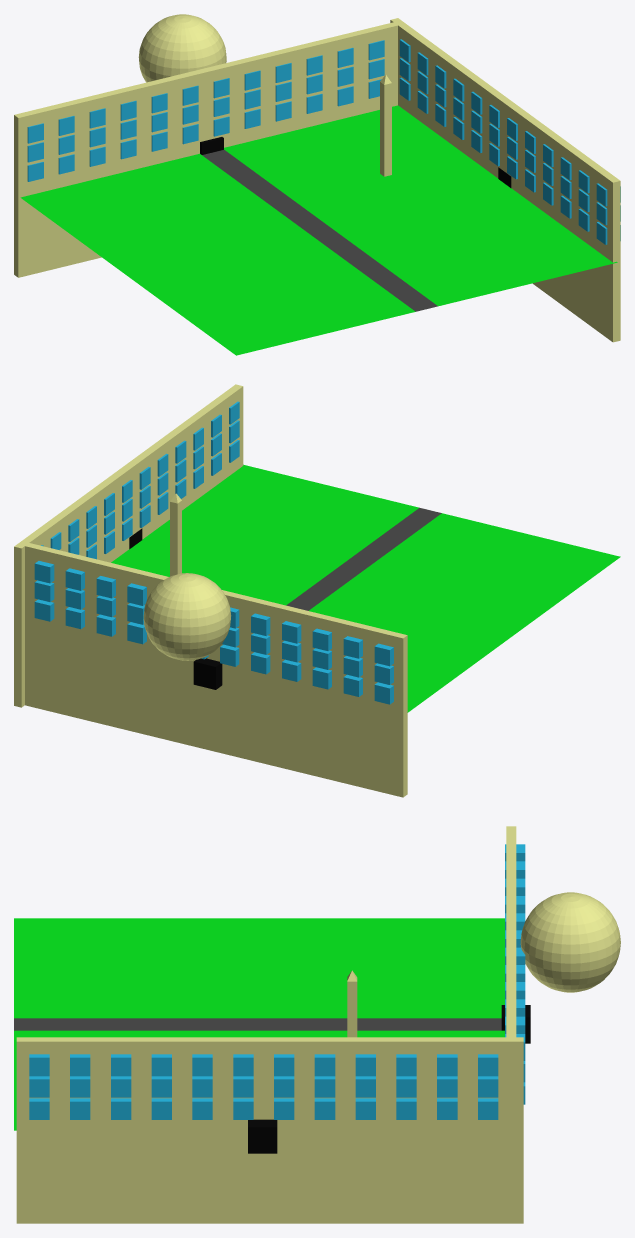
File: World.fbx
The picture shows the model from 3 angles, top to bottom: view 1: azimuth 30°, elevation 25°; view 2: azimuth 150°, elevation 25°; view 3: azimuth 270°, elevation 25°; orthographic projection. The views are drawn at different scales.
Visible parts, largest first — view 1: Plane, Cube, Cube.001, Sphere, Cube.006, Cube.007, Cube.005, Cube.010, Cube.008, Cube.009, Cube.002; view 2: Plane, Cube, Cube.001, Sphere, Cube.005, Cube.007, Cube.006, Cube.008, Cube.009, Cube.010, Cube.002, Cube.003; view 3: Cube.001, Plane, Sphere, Cube.008, Cube.009, Cube.010, Cube, Cube.007, Cube.004, Cube.002.
Part boxes in pixels (bbox=[...]): Plane: bbox=[20, 105, 617, 355]; Cube: bbox=[14, 21, 402, 277]; Cube.001: bbox=[390, 18, 620, 342]; Sphere: bbox=[138, 14, 226, 82]; Cube.006: bbox=[27, 59, 384, 162]; Cube.007: bbox=[27, 40, 384, 143]; Cube.005: bbox=[27, 79, 381, 181]; Cube.010: bbox=[399, 77, 620, 244]; Cube.008: bbox=[399, 39, 620, 206]; Cube.009: bbox=[399, 58, 620, 225]; Cube.002: bbox=[380, 75, 391, 176]; Plane: bbox=[111, 464, 620, 712]; Cube: bbox=[23, 542, 407, 797]; Cube.001: bbox=[14, 384, 243, 707]; Sphere: bbox=[143, 573, 231, 660]; Cube.005: bbox=[34, 599, 393, 704]; Cube.007: bbox=[34, 561, 393, 666]; Cube.006: bbox=[34, 580, 393, 684]; Cube.008: bbox=[41, 401, 239, 549]; Cube.009: bbox=[68, 420, 239, 554]; Cube.010: bbox=[86, 440, 239, 559]; Cube.002: bbox=[170, 493, 181, 576]; Cube.003: bbox=[193, 658, 222, 689]; Cube.001: bbox=[16, 1037, 523, 1223]; Plane: bbox=[14, 918, 504, 1130]; Sphere: bbox=[520, 892, 620, 992]; Cube.008: bbox=[29, 1054, 498, 1076]; Cube.009: bbox=[29, 1076, 498, 1097]; Cube.010: bbox=[29, 1098, 498, 1119]; Cube: bbox=[506, 826, 516, 1040]; Cube.007: bbox=[505, 844, 525, 1060]; Cube.004: bbox=[248, 1119, 277, 1153]; Cube.002: bbox=[347, 970, 357, 1037].
Bounding box in the file's own units: 10519 × 4800 × 12085.
